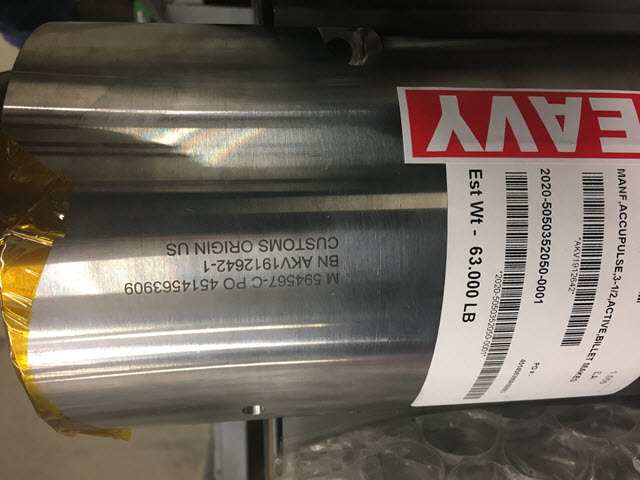character: (221, 274, 239, 292), (324, 269, 342, 285), (234, 276, 252, 292), (268, 236, 284, 254), (192, 239, 208, 256), (176, 240, 192, 257), (197, 276, 212, 294), (211, 238, 226, 256), (316, 253, 331, 270), (315, 235, 329, 253), (249, 274, 264, 290), (240, 238, 255, 254), (242, 257, 256, 274), (223, 257, 237, 274), (293, 236, 307, 253), (282, 236, 296, 253), (132, 279, 145, 297), (279, 254, 292, 272), (312, 269, 323, 290), (163, 242, 179, 256), (161, 278, 174, 295), (151, 279, 164, 296), (256, 237, 269, 254), (326, 235, 340, 250), (260, 256, 273, 272), (285, 272, 297, 289), (171, 277, 183, 294), (215, 257, 227, 274), (300, 254, 314, 268), (290, 253, 303, 268), (209, 276, 221, 292), (181, 278, 193, 294), (123, 281, 135, 297), (328, 252, 340, 268), (305, 236, 317, 252), (200, 259, 213, 273), (302, 271, 314, 286), (229, 239, 241, 254), (294, 272, 305, 288), (253, 256, 264, 272), (260, 274, 270, 291), (191, 276, 201, 293), (234, 257, 245, 272), (277, 273, 287, 289), (271, 255, 280, 272), (268, 274, 278, 289), (144, 279, 153, 295), (222, 238, 230, 255), (206, 238, 213, 257), (210, 258, 217, 273)
